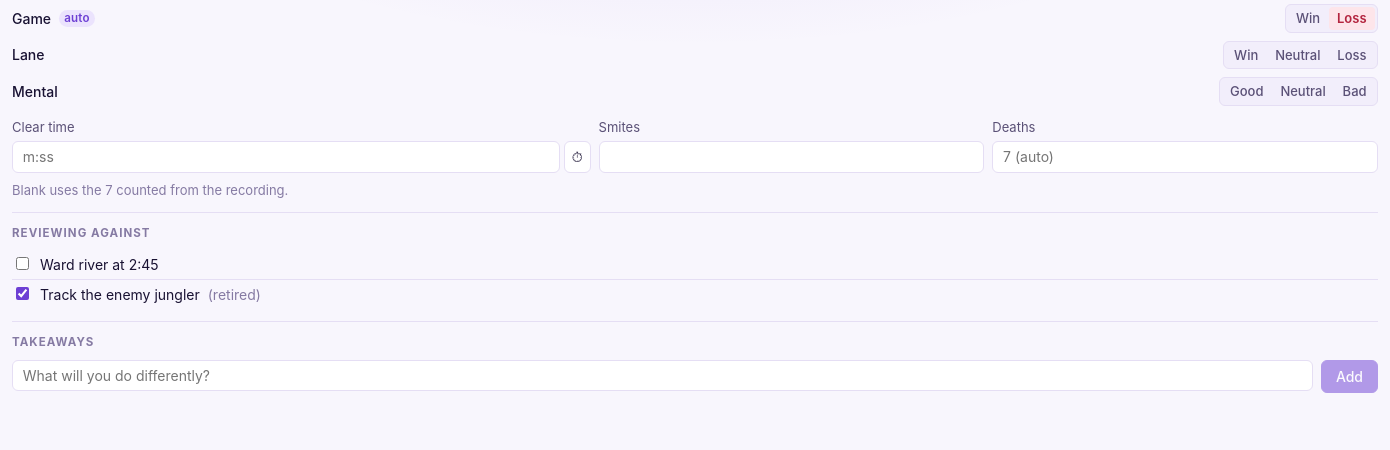
Test: takeaways › adds one to this game and clears the box
The width and height of the screenshot is (1390, 450).
Type "Contest grubs with prio" into the text box named "New takeaway" at coordinates (662, 375), box top-left (12, 360), bottom-right (1313, 391)
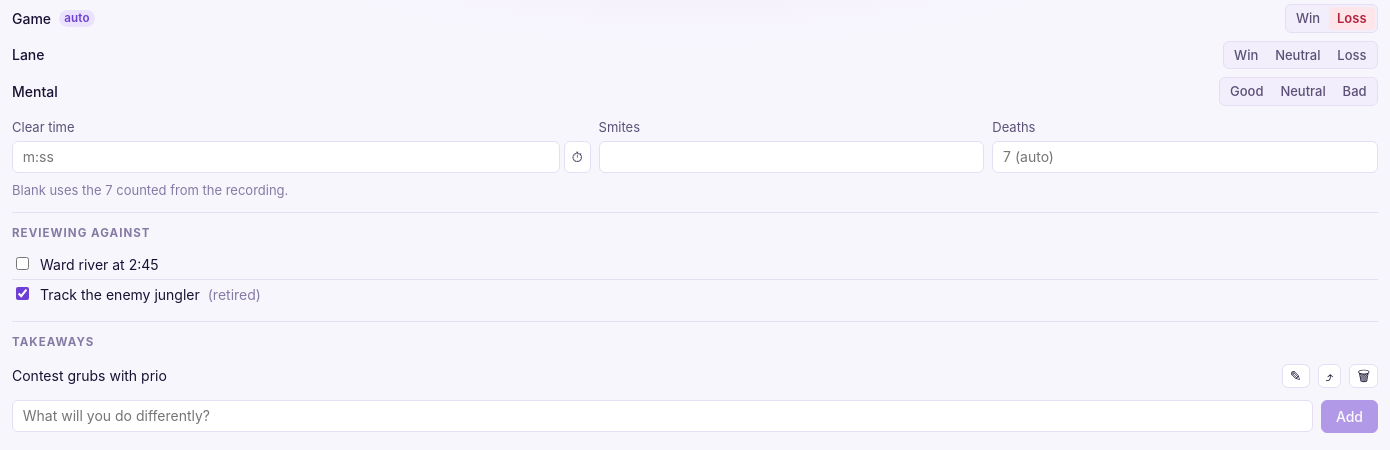
Expected: the text box named "New takeaway" is empty, top-left (12, 400), bottom-right (1313, 432)
Now the text with class "takeaway-body" reads "Contest grubs with prio", box top-left (12, 367), bottom-right (167, 384)
